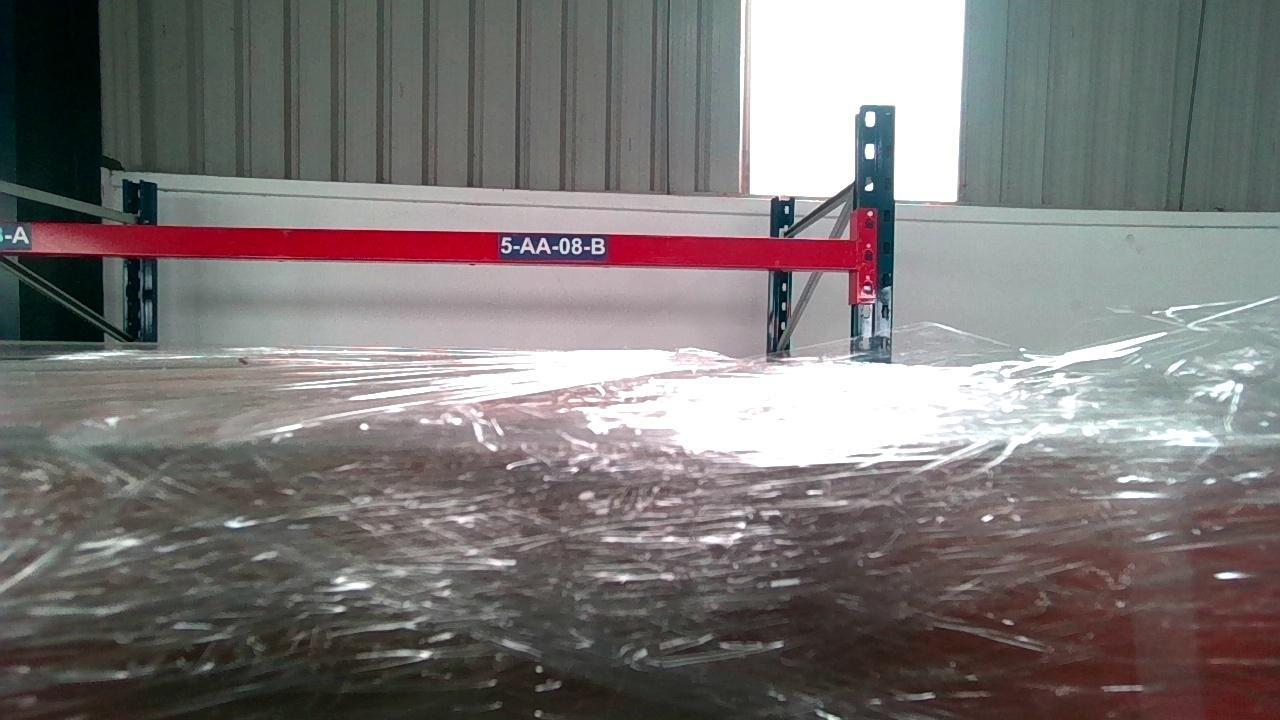h_rack: (0, 220, 867, 266)
